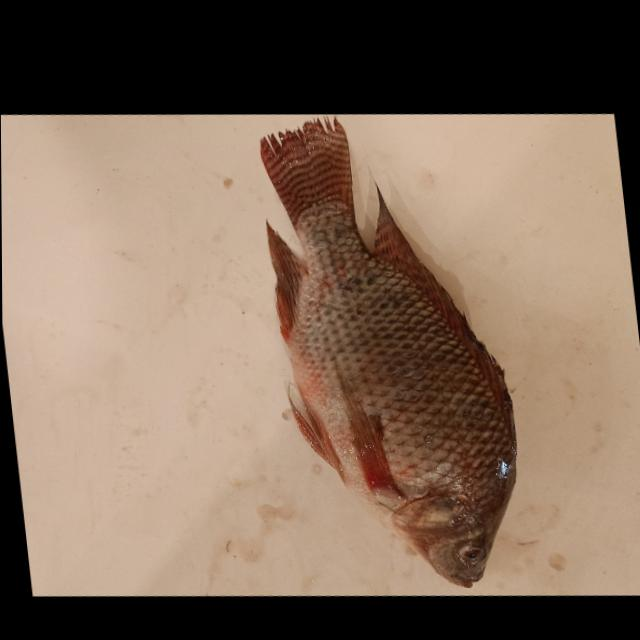Tilapia: (247, 90, 531, 613)
